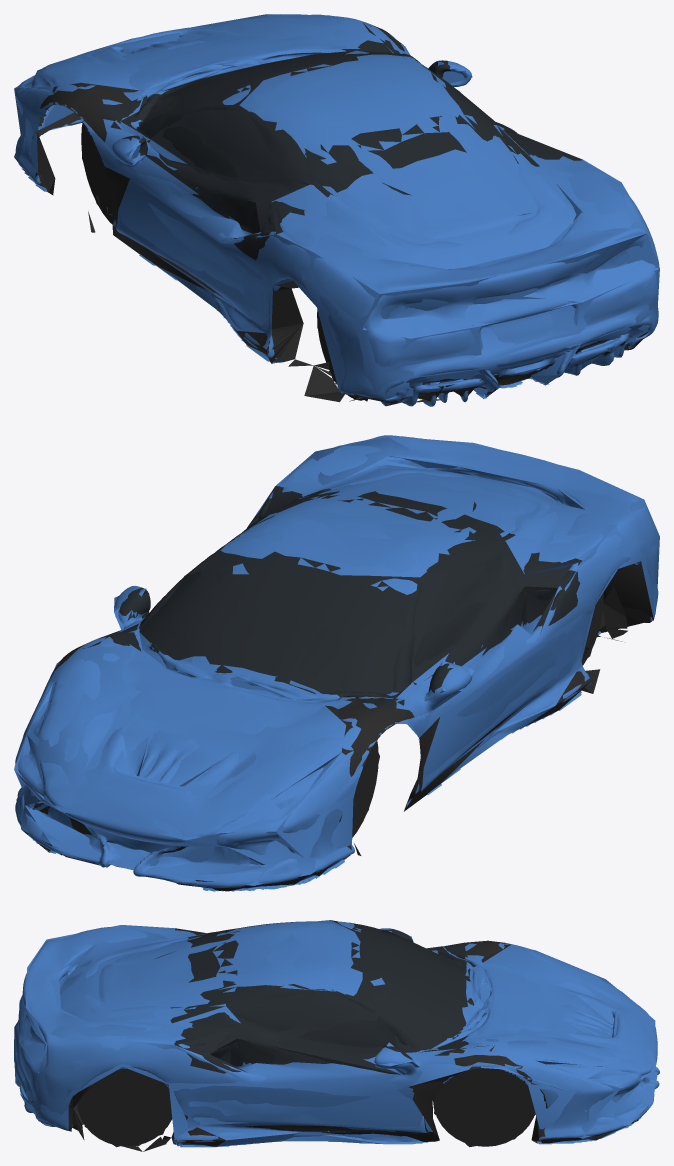
Rendered from ferrari-f8-tributo.glb.
3 renders of one model, top to bottom at view 1: azimuth 30°, elevation 25°; view 2: azimuth 150°, elevation 25°; view 3: azimuth 270°, elevation 25°, orthographic. The views are drawn at different scales.
Visible parts, largest first — view 1: body, far; view 2: body, far; view 3: body, far.
Boxes of the visible parts, left/top/right/bottom form: body: left=15, top=14, right=659, bottom=406; far: left=14, top=14, right=659, bottom=402; body: left=15, top=435, right=658, bottom=891; far: left=14, top=437, right=659, bottom=891; body: left=14, top=921, right=659, bottom=1151; far: left=14, top=920, right=657, bottom=1147.
Size of the model in its own units: 2.29 by 1.25 by 4.67.
